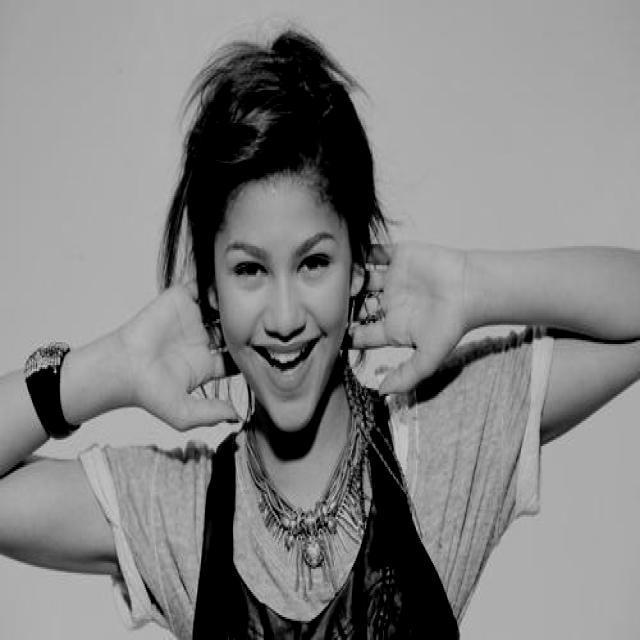real: (216, 192, 353, 432)
